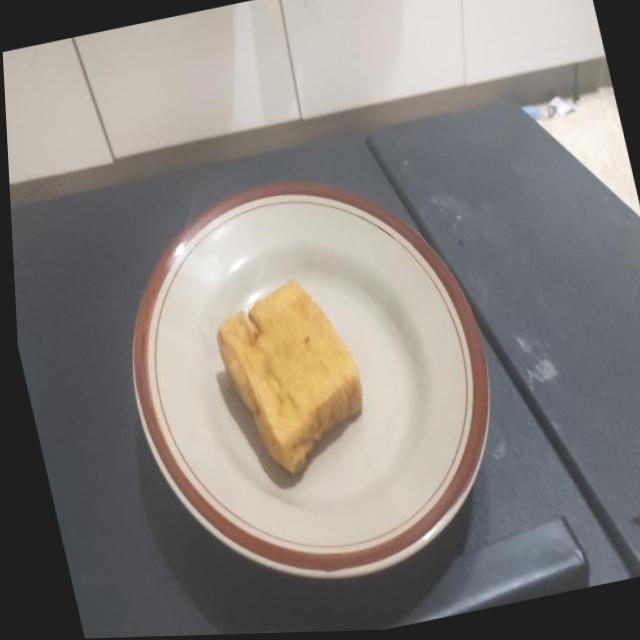tahu_goreng: (216, 280, 362, 473)
